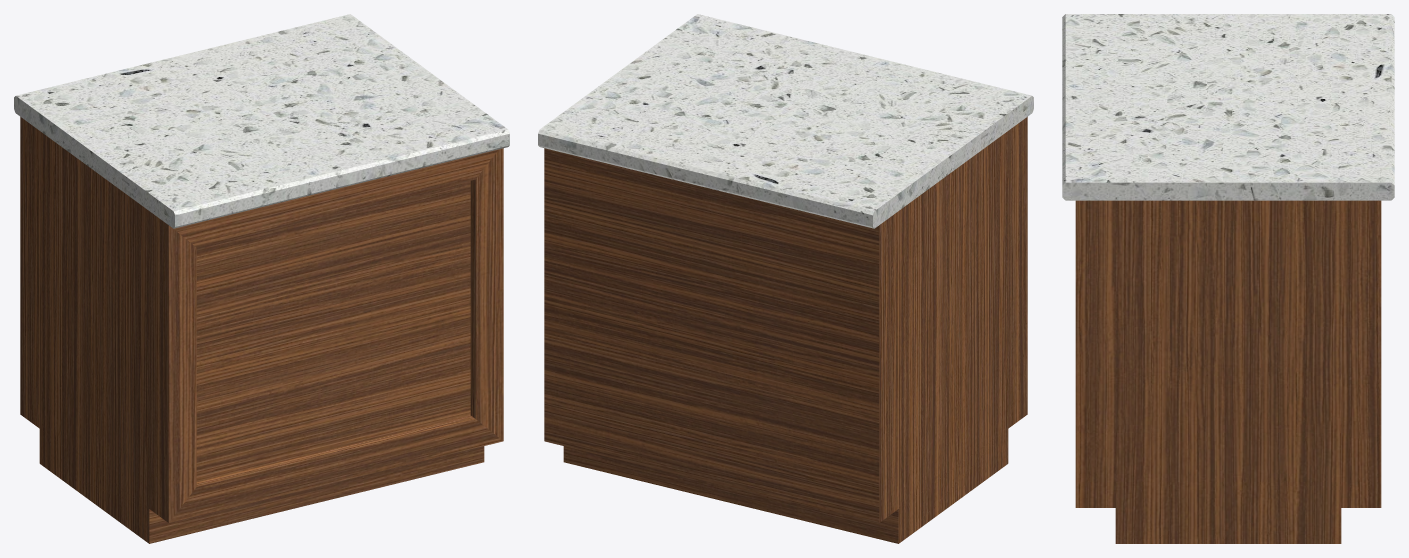
The model's file is counter.gltf.
3 renders of one model, left to right at view 1: azimuth 30°, elevation 25°; view 2: azimuth 150°, elevation 25°; view 3: azimuth 270°, elevation 25°, orthographic. The views are drawn at different scales.
Parts seen in each view (by area): view 1: Counter 3; view 2: Counter 3; view 3: Counter 3.
Boxes of the visible parts, <box> form: Counter 3: <box>14,14,509,543</box>; Counter 3: <box>538,14,1033,543</box>; Counter 3: <box>1062,14,1394,543</box>.
Bounding box in the file's own units: 3 × 3 × 2.5.
